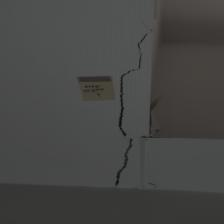Medium: (115, 63, 136, 187)
